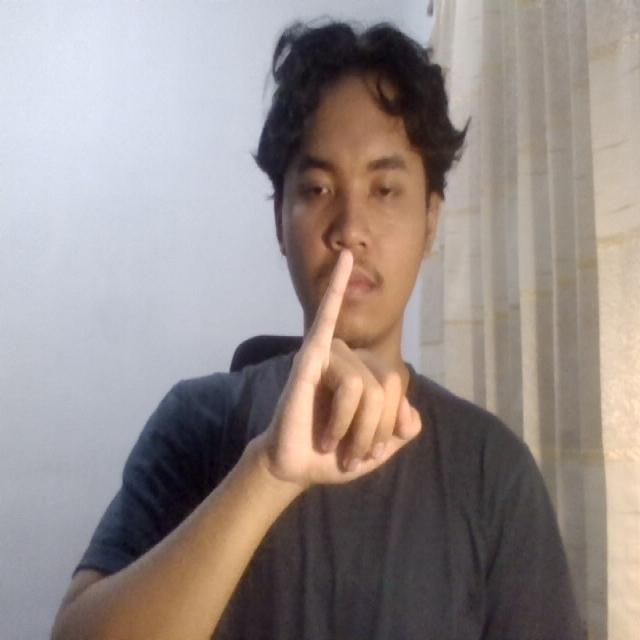Hello: (240, 235, 440, 512)
